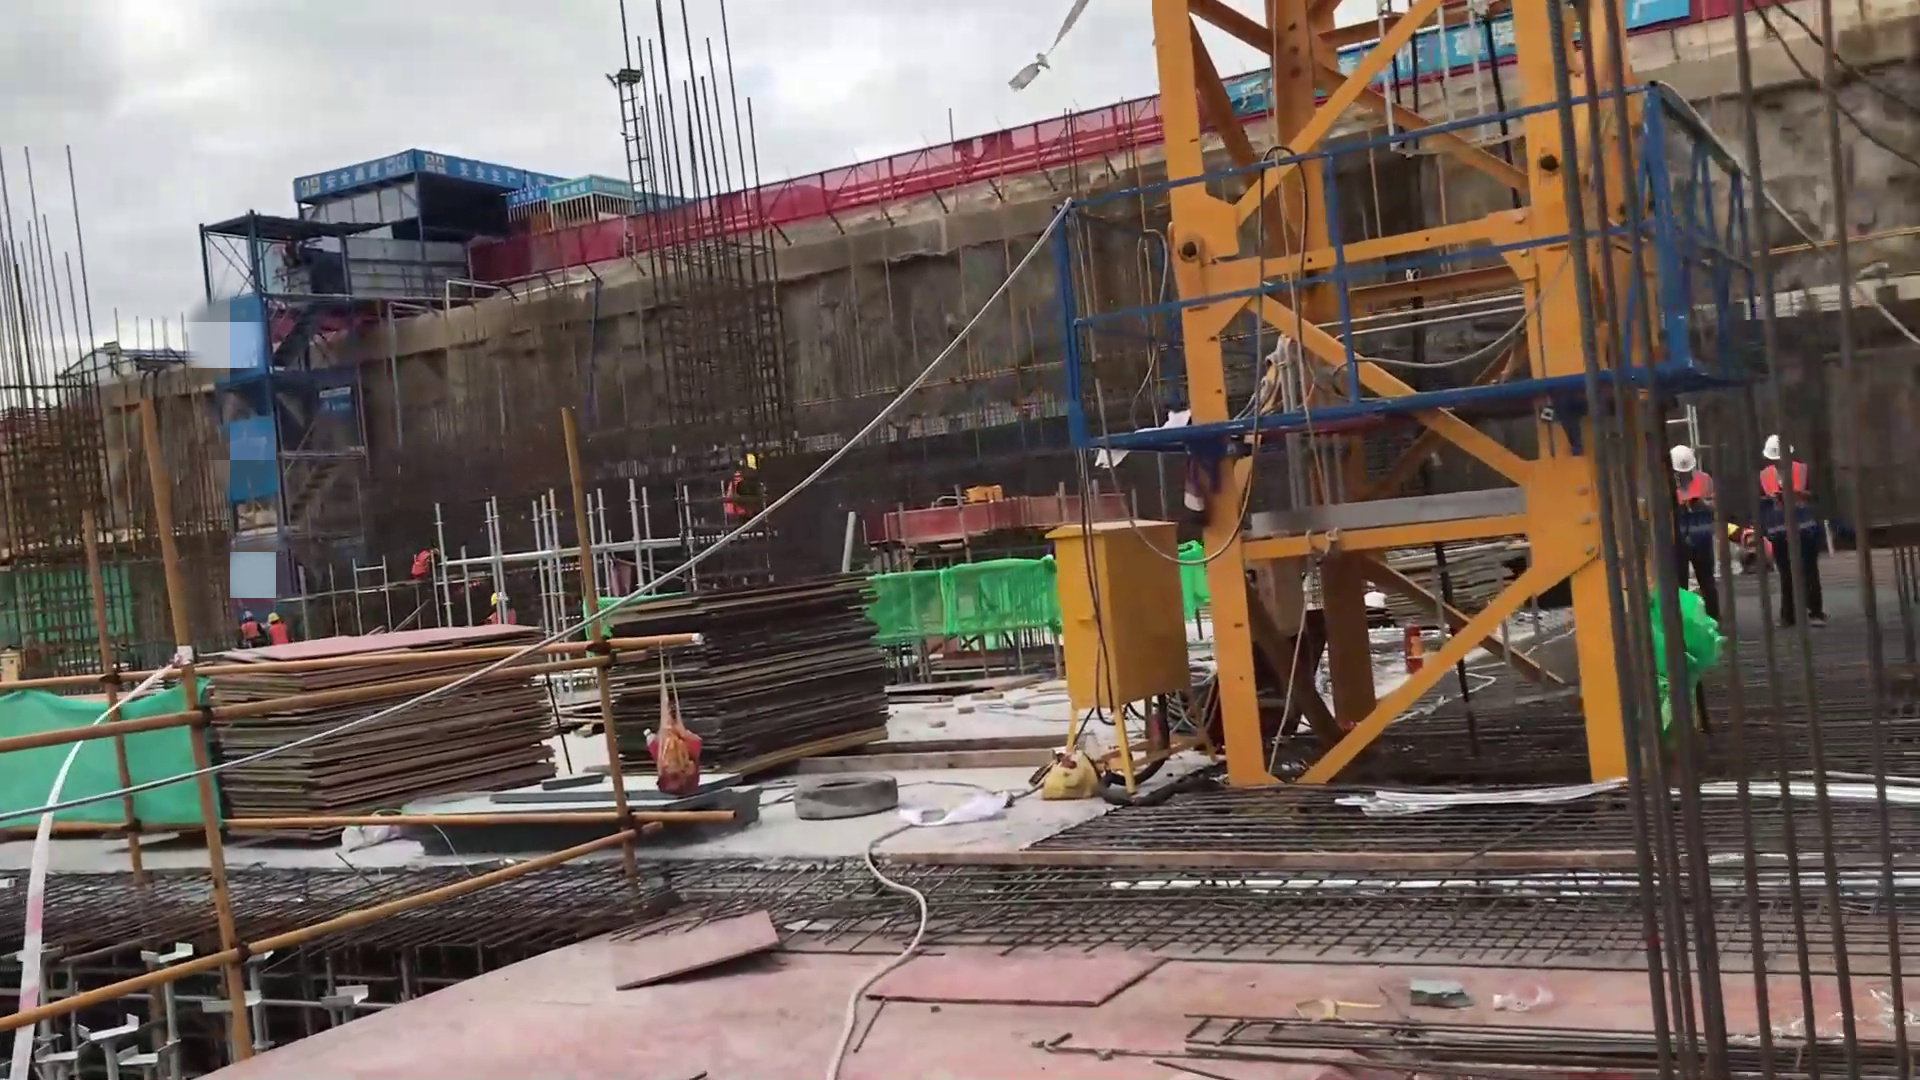helmet: (1668, 441, 1694, 481), (1766, 430, 1793, 468), (729, 453, 754, 466), (489, 593, 511, 605), (244, 607, 255, 620), (269, 613, 282, 620), (432, 548, 441, 554)
person: (1754, 428, 1829, 626), (1658, 438, 1724, 628), (723, 446, 763, 533), (485, 588, 520, 626), (239, 609, 265, 647), (407, 544, 439, 576), (266, 612, 292, 646)
vest: (1757, 463, 1803, 537), (1673, 475, 1717, 546), (726, 470, 756, 515), (410, 548, 433, 578), (489, 606, 515, 626), (240, 623, 264, 643), (269, 621, 289, 645)
